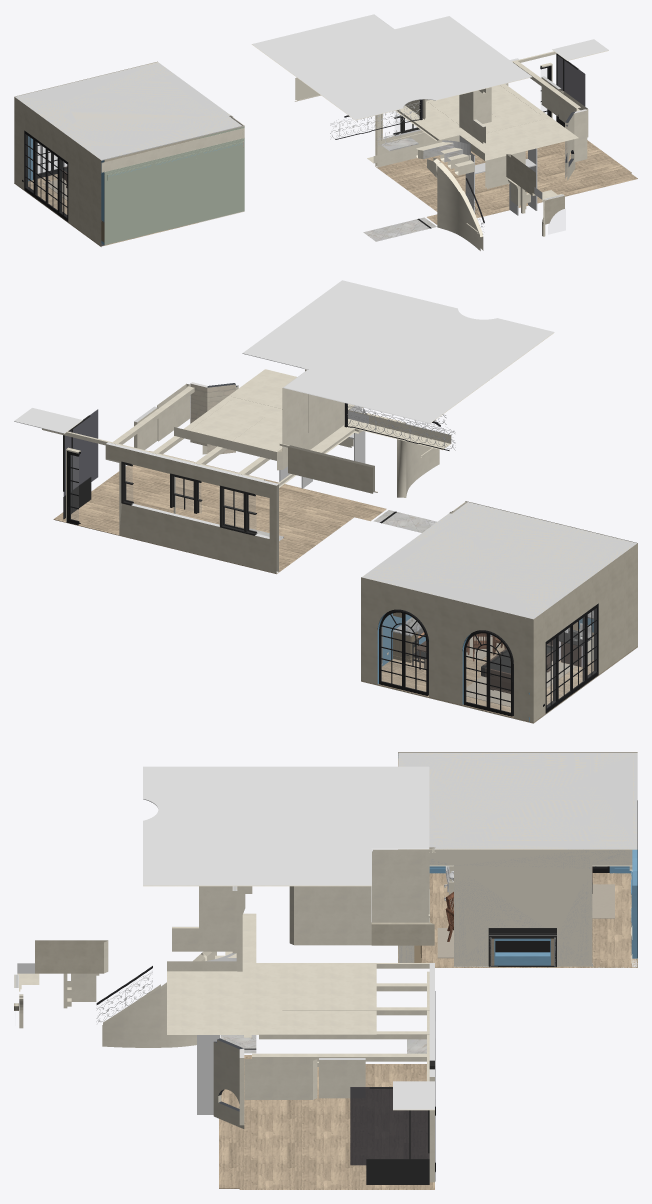
The model's file is game-room-e562f01d2848.glb.
The picture shows the model from 3 angles, top to bottom: view 1: azimuth 30°, elevation 25°; view 2: azimuth 150°, elevation 25°; view 3: azimuth 270°, elevation 25°; orthographic projection. The views are drawn at different scales.
Visible parts, largest first — view 1: game-room-look-9d91b47435c6fb33, game-room-4a969f5cc1ae3dfe, game-room-30c5953c9ad73e5d, game-room-look-3b0077416469e01b, game-room-look-2575515a05775d9e, game-room-039192b0560cfac3, game-room-50d54560d247b537, game-room-look-8c6a7019fd0063e7, game-room-2575515a05775d9e, game-room-f4800b31bfeb29e4, game-room-look-bfb9fa537cd11d1d, game-room-look-cbd4bf73d9724a66 (+19 smaller); view 2: game-room-look-9d91b47435c6fb33, game-room-4a969f5cc1ae3dfe, game-room-look-3b0077416469e01b, game-room-969b861f9850351e, game-room-look-bfb9fa537cd11d1d, game-room-039192b0560cfac3, game-room-look-2575515a05775d9e, game-room-50d54560d247b537, game-room-3b0077416469e01b, game-room-look-245f595ae2832e16, game-room-ebdc05650cf31826, game-room-ca241f91fd698c40 (+23 smaller); view 3: game-room-look-9d91b47435c6fb33, game-room-4a969f5cc1ae3dfe, game-room-look-3b0077416469e01b, game-room-3e6709f91b43c3bf, game-room-look-2575515a05775d9e, game-room-50d54560d247b537, game-room-look-69af8f587252f9fa, game-room-look-cbd4bf73d9724a66, game-room-3b0077416469e01b, game-room-look-32b959c9aa406288, game-room-look-8c6a7019fd0063e7, game-room-look-c51ecd664a3b22a3 (+22 smaller).
Part boxes in pixels (bbox=[...]): game-room-look-9d91b47435c6fb33: bbox=[251, 14, 531, 120]; game-room-4a969f5cc1ae3dfe: bbox=[14, 62, 242, 160]; game-room-30c5953c9ad73e5d: bbox=[104, 126, 244, 245]; game-room-look-3b0077416469e01b: bbox=[375, 140, 637, 224]; game-room-look-2575515a05775d9e: bbox=[367, 84, 578, 163]; game-room-039192b0560cfac3: bbox=[14, 97, 104, 246]; game-room-50d54560d247b537: bbox=[14, 61, 243, 160]; game-room-look-8c6a7019fd0063e7: bbox=[427, 157, 483, 250]; game-room-2575515a05775d9e: bbox=[101, 128, 244, 172]; game-room-f4800b31bfeb29e4: bbox=[24, 130, 68, 221]; game-room-look-bfb9fa537cd11d1d: bbox=[375, 58, 518, 167]; game-room-look-cbd4bf73d9724a66: bbox=[557, 55, 585, 106]; game-room-look-9d91b47435c6fb33: bbox=[242, 280, 554, 423]; game-room-4a969f5cc1ae3dfe: bbox=[361, 502, 637, 619]; game-room-look-3b0077416469e01b: bbox=[53, 451, 386, 574]; game-room-969b861f9850351e: bbox=[361, 578, 529, 721]; game-room-look-bfb9fa537cd11d1d: bbox=[105, 442, 278, 573]; game-room-039192b0560cfac3: bbox=[529, 544, 637, 722]; game-room-look-2575515a05775d9e: bbox=[174, 369, 451, 460]; game-room-50d54560d247b537: bbox=[361, 502, 637, 619]; game-room-3b0077416469e01b: bbox=[361, 644, 637, 722]; game-room-look-245f595ae2832e16: bbox=[288, 445, 374, 493]; game-room-ebdc05650cf31826: bbox=[487, 632, 512, 716]; game-room-ca241f91fd698c40: bbox=[403, 612, 427, 695]; game-room-look-9d91b47435c6fb33: bbox=[143, 766, 429, 886]; game-room-4a969f5cc1ae3dfe: bbox=[398, 752, 637, 849]; game-room-look-3b0077416469e01b: bbox=[219, 1055, 434, 1189]; game-room-3e6709f91b43c3bf: bbox=[398, 849, 632, 966]; game-room-look-2575515a05775d9e: bbox=[167, 913, 376, 1034]; game-room-50d54560d247b537: bbox=[398, 752, 637, 849]; game-room-look-69af8f587252f9fa: bbox=[289, 886, 371, 945]; game-room-look-cbd4bf73d9724a66: bbox=[350, 1087, 429, 1165]; game-room-3b0077416469e01b: bbox=[398, 873, 637, 967]; game-room-look-32b959c9aa406288: bbox=[372, 849, 429, 922]; game-room-look-8c6a7019fd0063e7: bbox=[102, 951, 216, 1047]; game-room-look-c51ecd664a3b22a3: bbox=[172, 886, 236, 951].
Size of the model in its own units: 21.68 by 6.36 by 16.78.
71 materials, 18 textured.
